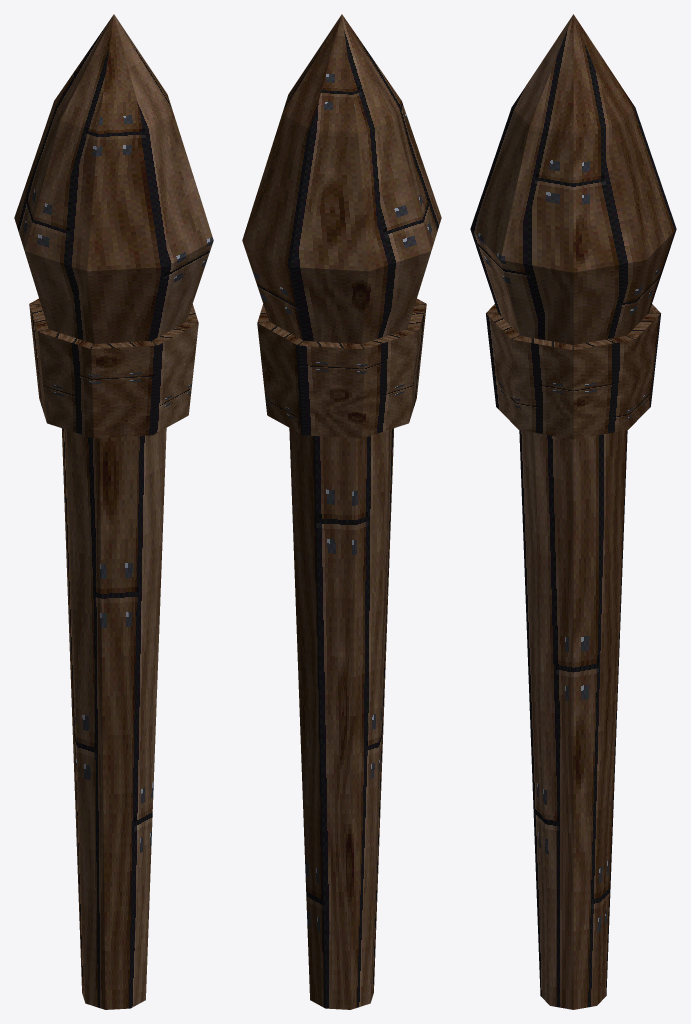
The model's file is catacumba_tocha_apagada.glb.
3 renders of one model, left to right at view 1: azimuth 30°, elevation 25°; view 2: azimuth 150°, elevation 25°; view 3: azimuth 270°, elevation 25°, orthographic.
Parts seen in each view (by area): view 1: catacumba_tocha_apagada; view 2: catacumba_tocha_apagada; view 3: catacumba_tocha_apagada.
Boxes of the visible parts, x1=… form: catacumba_tocha_apagada: x1=14, y1=14, x2=213, y2=1009; catacumba_tocha_apagada: x1=242, y1=14, x2=441, y2=1009; catacumba_tocha_apagada: x1=470, y1=14, x2=676, y2=1009.
Size of the model in its own units: 0.2 by 1.05 by 0.2.
Materials: 1 (1 with a texture image).
